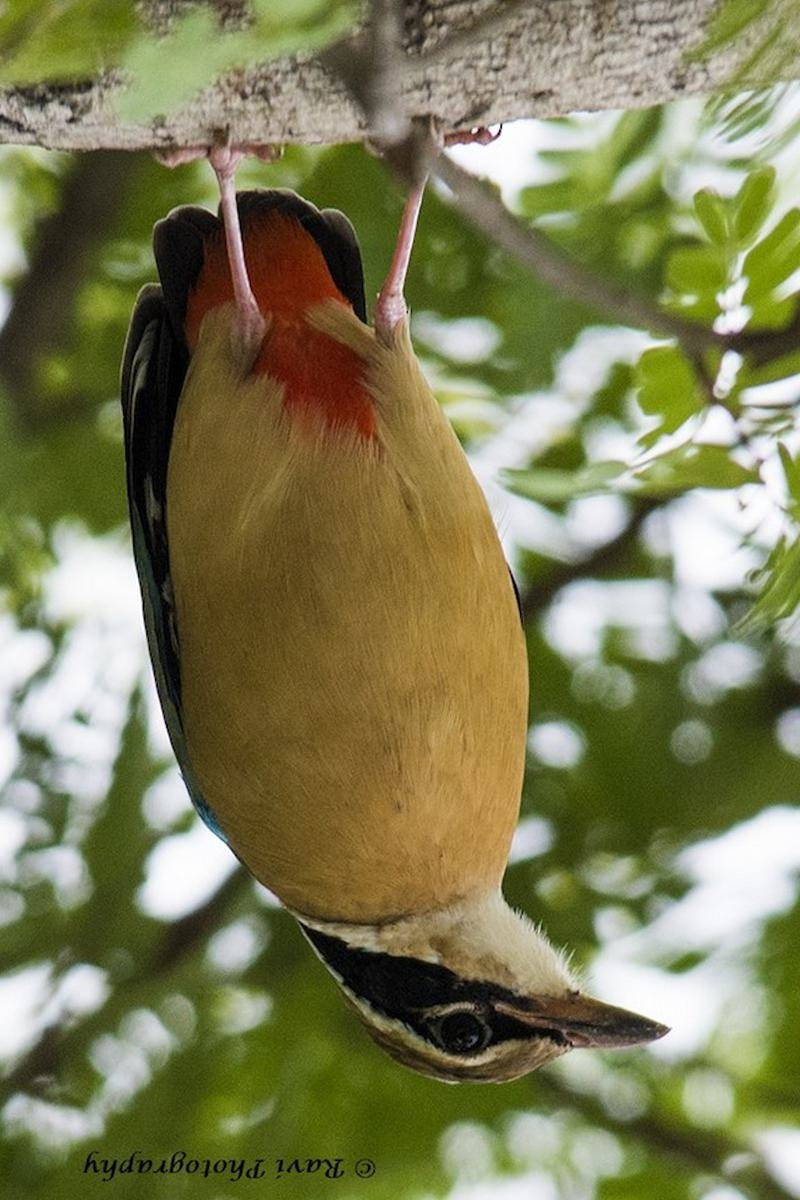pitta: (112, 199, 688, 1089)
